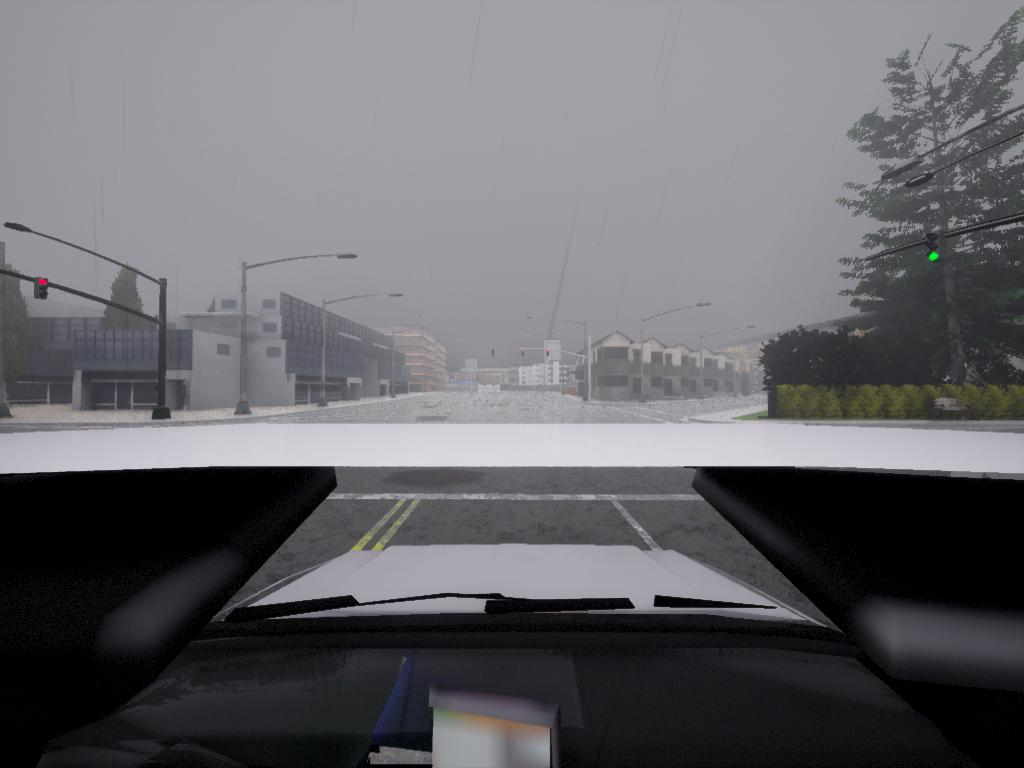traffic_light: (926, 237, 944, 265), (36, 276, 50, 301), (929, 247, 943, 264), (521, 349, 526, 359), (546, 350, 551, 359), (493, 350, 496, 358)
